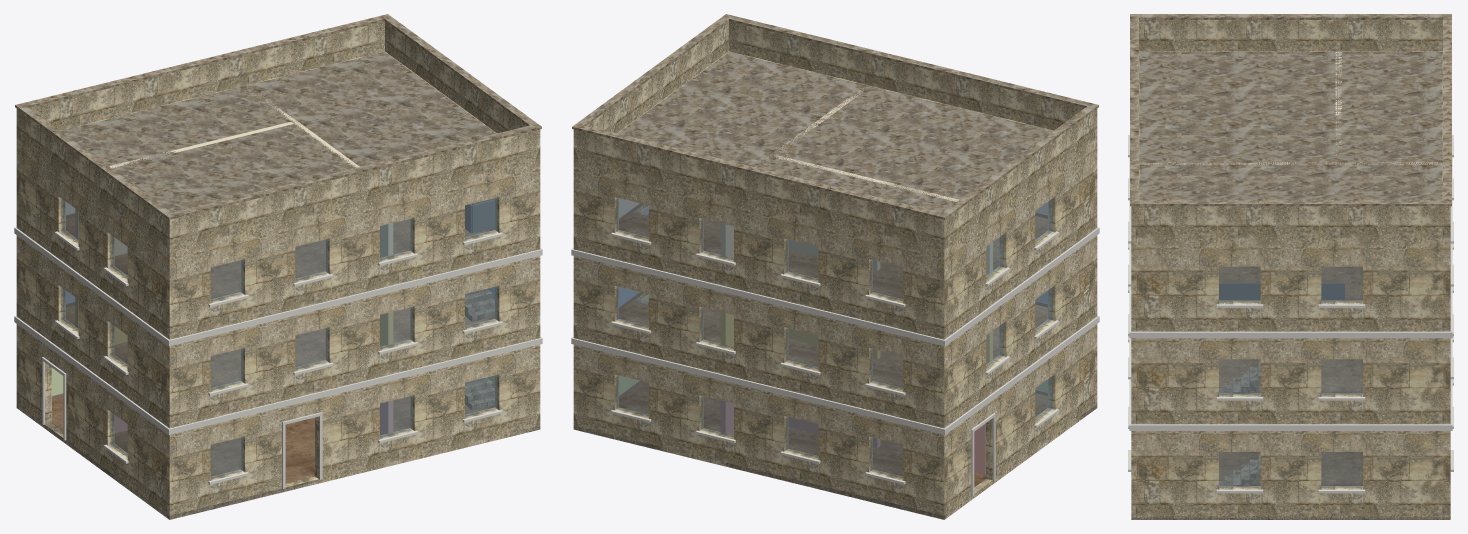
File: customs-house.loc-v1.lod0.glb
3 views of the same model, side by side, from view 1: azimuth 30°, elevation 25°; view 2: azimuth 150°, elevation 25°; view 3: azimuth 270°, elevation 25° (orthographic). The views are drawn at different scales.
Parts seen in each view (by area): view 1: customs-house; view 2: customs-house; view 3: customs-house.
Part boxes in pixels (box(x1,y1,x2,y2)): customs-house: box(14, 14, 542, 519); customs-house: box(571, 14, 1099, 519); customs-house: box(1128, 14, 1453, 519).
Size of the model in its own units: 14.2 by 10.93 by 10.2.
Materials: 5 (3 with a texture image).
